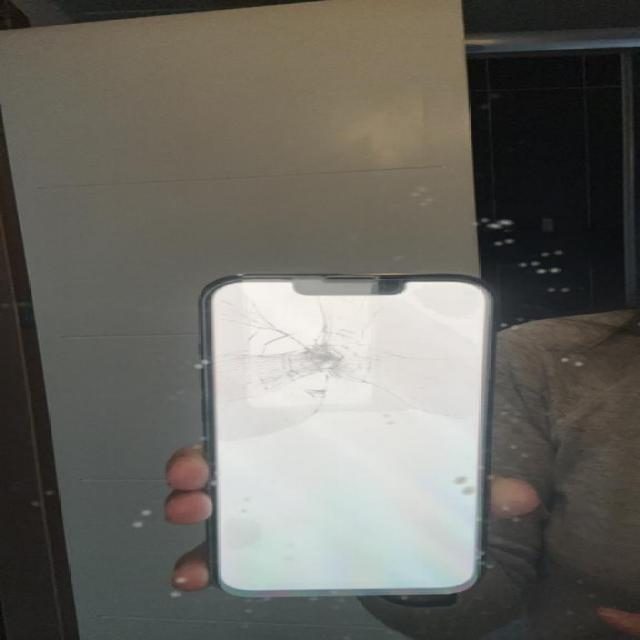Crack: (207, 283, 388, 418)
